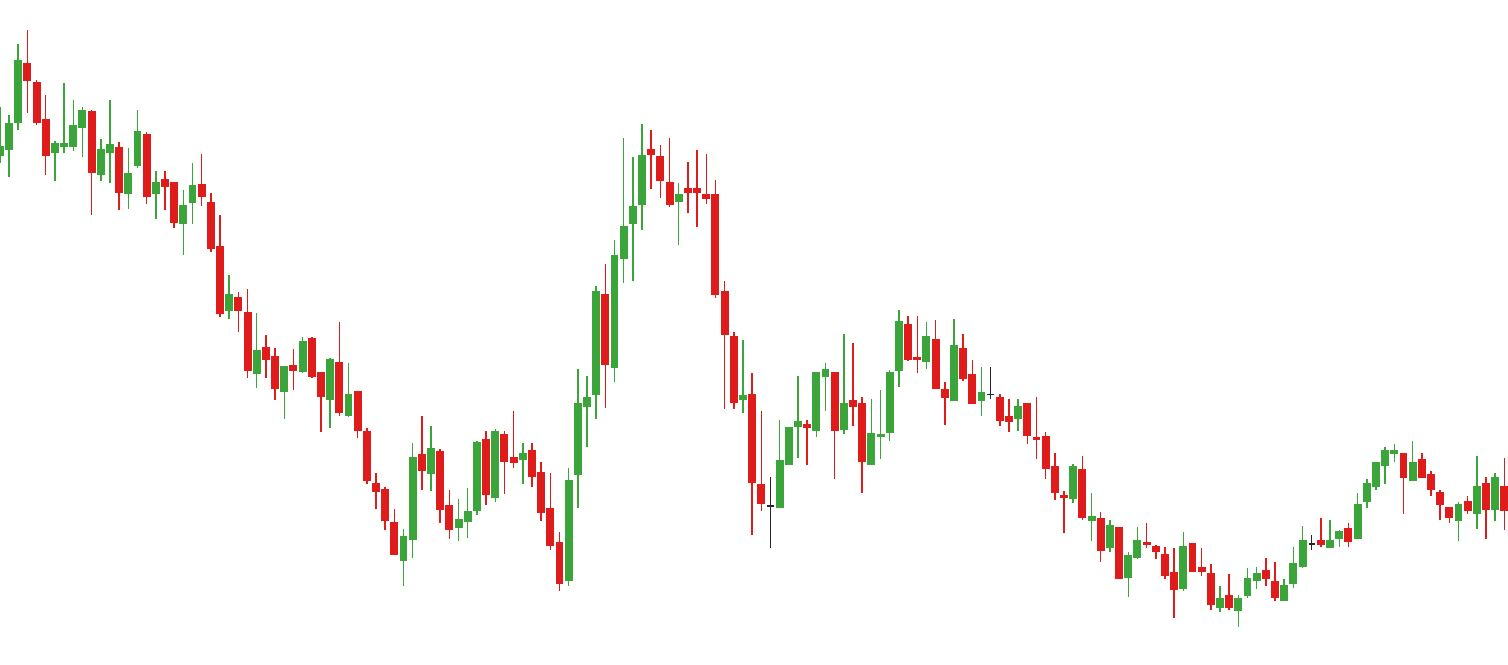buy: (455, 466, 579, 594)
sell: (837, 294, 914, 418)
